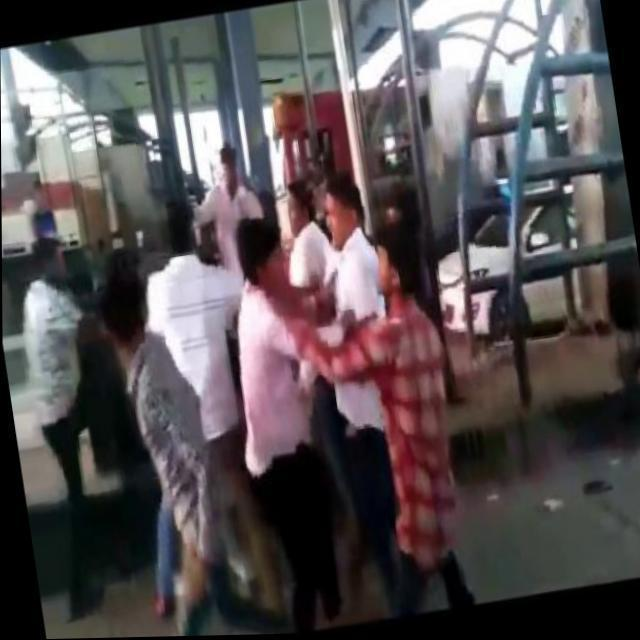fight: (206, 168, 412, 523)
